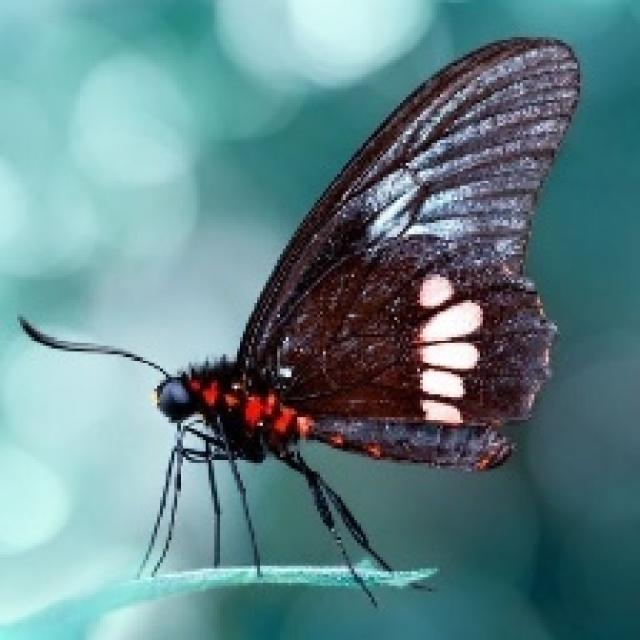butterfly: (14, 31, 580, 606)
